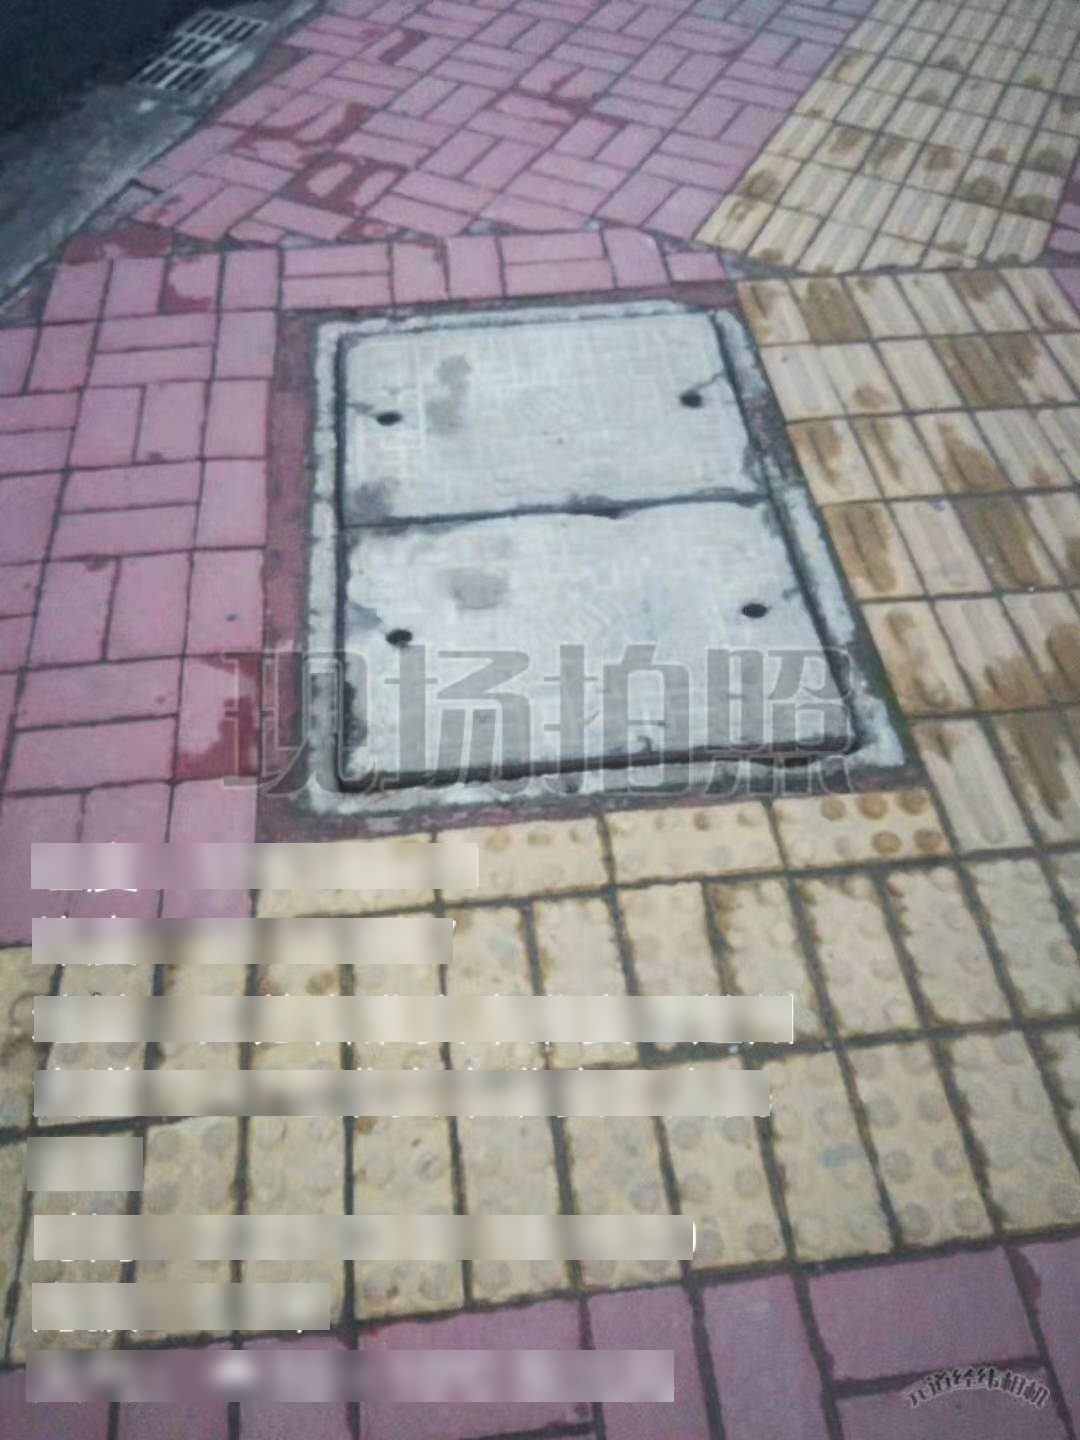good: (310, 295, 909, 808)
